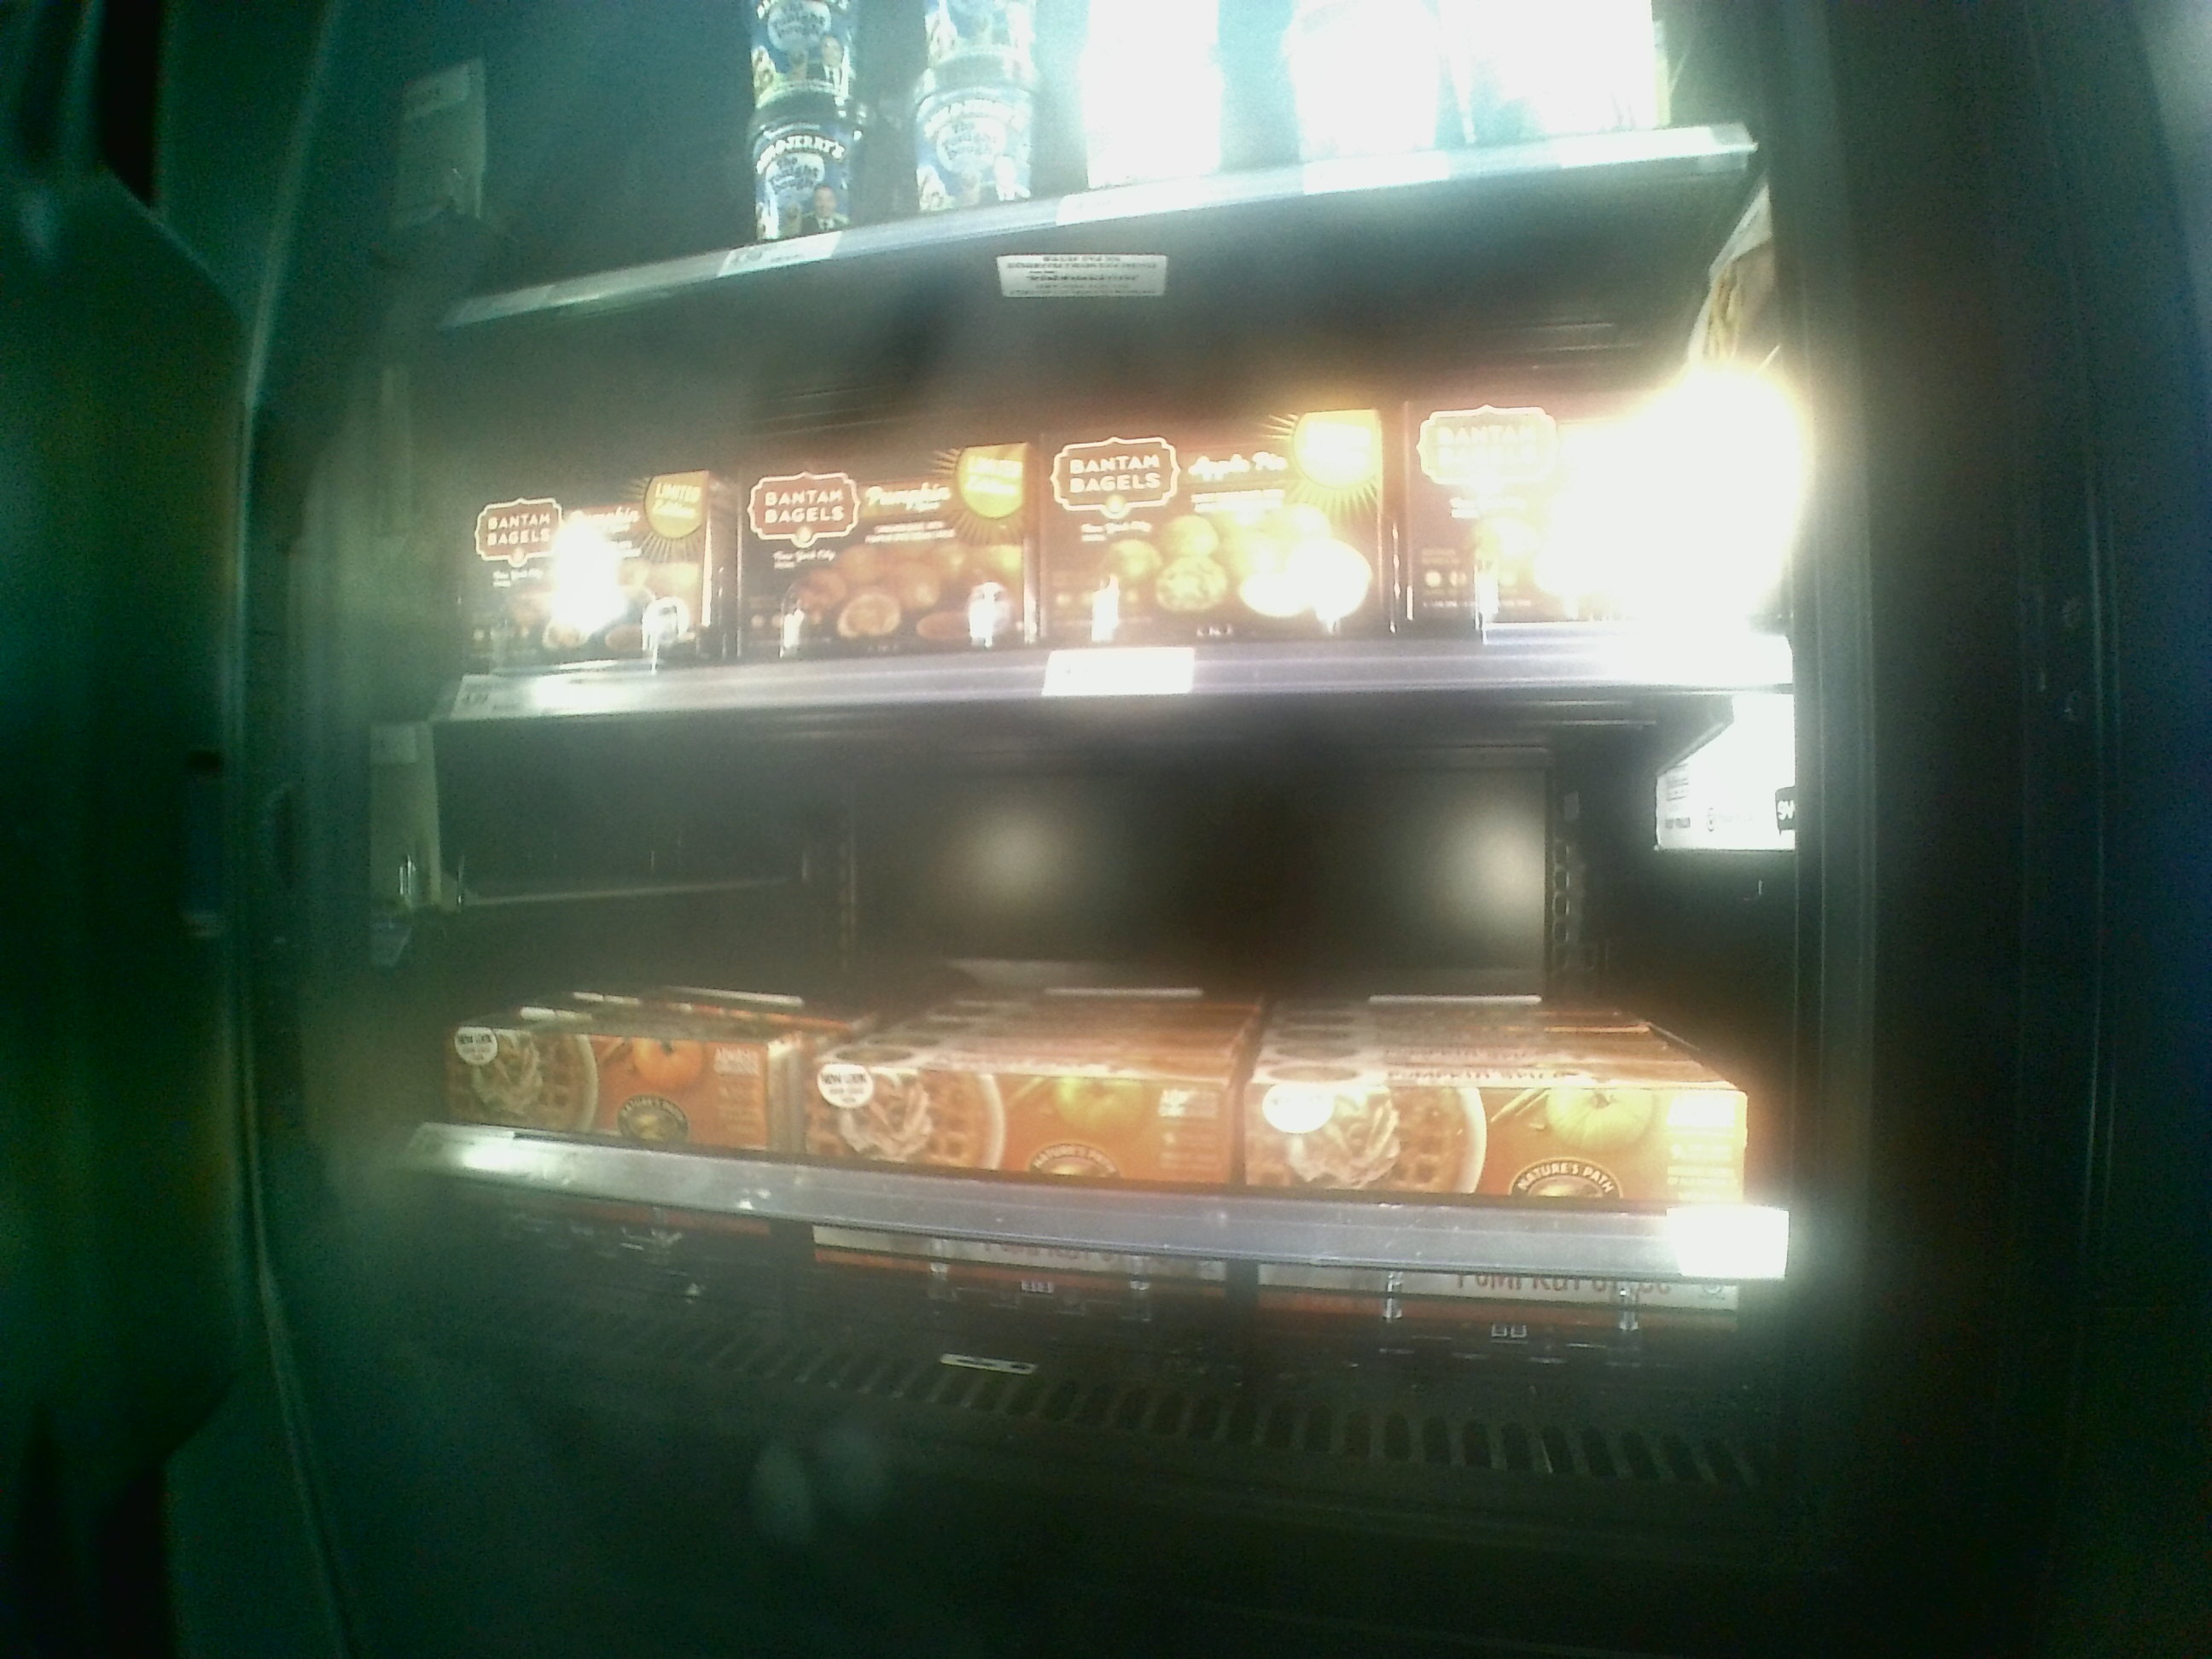shelf: (408, 711, 1815, 1528), (423, 331, 1820, 718)
